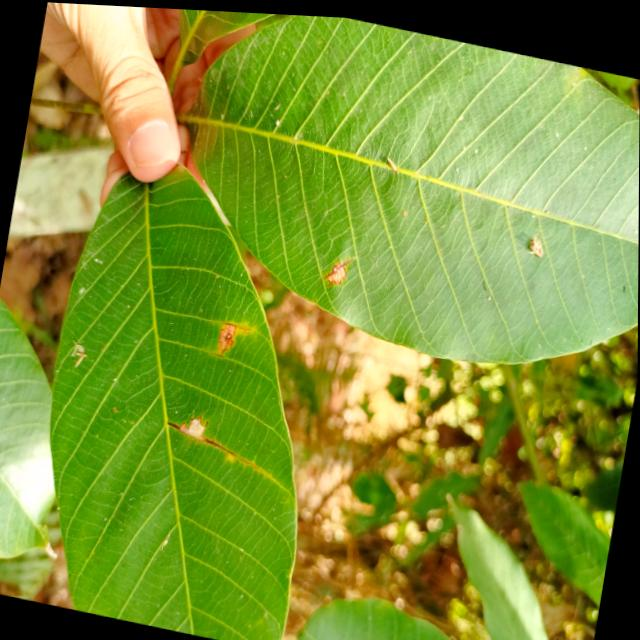Corynespora: (163, 404, 250, 461), (211, 318, 253, 360), (320, 248, 354, 286)
Leaf-Blight: (178, 413, 206, 438)
